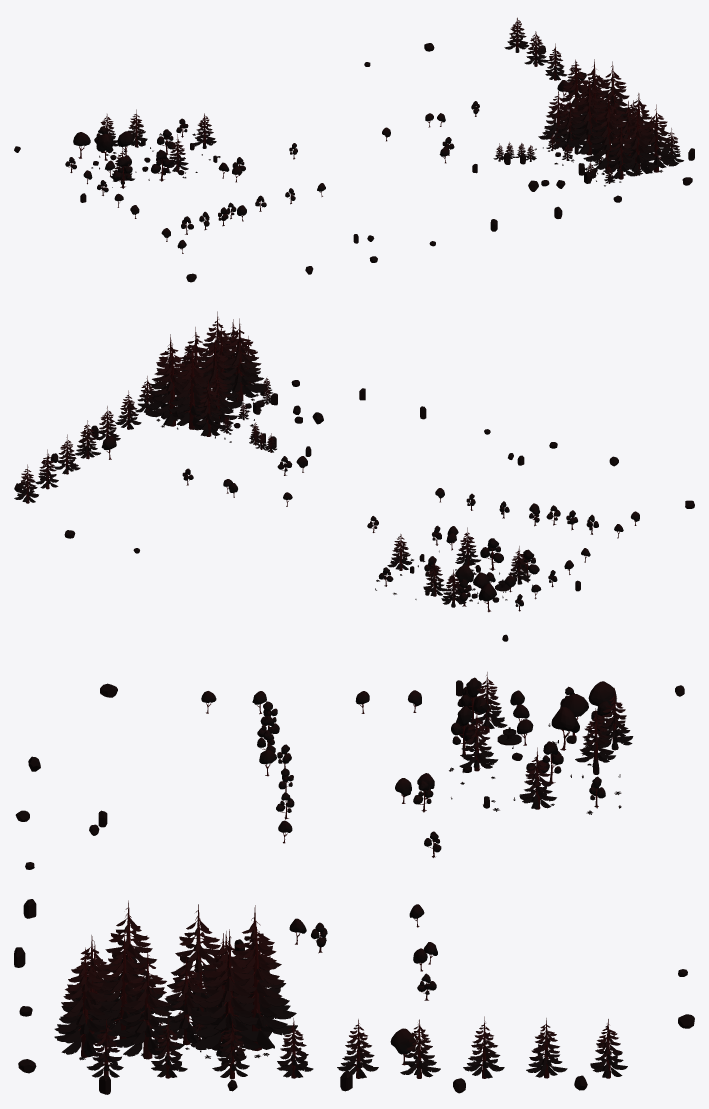
File: setor_zero_mato.glb
The picture shows the model from 3 angles, top to bottom: view 1: azimuth 30°, elevation 25°; view 2: azimuth 150°, elevation 25°; view 3: azimuth 270°, elevation 25°; orthographic projection. The views are drawn at different scales.
Visible parts, largest first — view 1: Tree_01_102, Tree_01_106, Tree_01_98, Tree_01_108, Tree_01_100, Tree_01_96, Tree_01_107, Tree_01_103, Tree_01_109, Tree_01_205, Tree_01_101, Tree_01_204; view 2: Tree_01_102, Tree_01_103, Tree_01_104, Tree_01_106, Tree_01_109, Tree_01_107, Tree_01_96; view 3: Tree_01_107, Tree_01_99, Tree_01_104, Tree_01_98, Tree_01_106, Tree_01_97, Tree_01_101, Tree_01_102, Tree_01_108, Tree_01_103, Tree_01_205, Tree_01_206 (+12 smaller).
Part boxes in pixels (box(x1,y1,x2,y2)): Tree_01_102: box(583, 93, 629, 169); Tree_01_106: box(565, 78, 606, 155); Tree_01_98: box(641, 104, 678, 172); Tree_01_108: box(617, 109, 658, 175); Tree_01_100: box(603, 123, 637, 179); Tree_01_96: box(552, 94, 586, 151); Tree_01_107: box(596, 61, 630, 134); Tree_01_103: box(559, 62, 598, 134); Tree_01_109: box(538, 91, 568, 143); Tree_01_205: box(524, 31, 548, 66); Tree_01_101: box(611, 101, 642, 165); Tree_01_204: box(504, 17, 529, 52); Tree_01_102: box(220, 318, 267, 401); Tree_01_103: box(163, 348, 213, 429); Tree_01_104: box(144, 344, 196, 426); Tree_01_106: box(196, 335, 242, 416); Tree_01_109: box(191, 379, 227, 436); Tree_01_107: box(145, 334, 185, 415); Tree_01_96: box(203, 370, 237, 424); Tree_01_107: box(191, 929, 271, 1057); Tree_01_99: box(114, 947, 184, 1059); Tree_01_104: box(219, 921, 297, 1050); Tree_01_98: box(54, 947, 119, 1057); Tree_01_106: box(164, 904, 225, 1027); Tree_01_97: box(157, 954, 216, 1045); Tree_01_101: box(102, 934, 158, 1039); Tree_01_102: box(97, 900, 172, 1027); Tree_01_108: box(54, 935, 120, 1044); Tree_01_103: box(231, 905, 296, 1031); Tree_01_205: box(526, 1018, 567, 1078); Tree_01_206: box(463, 1016, 504, 1078).
Size of the model in its own units: 167 by 26.28 by 119.
Materials: 1 (1 with a texture image).
